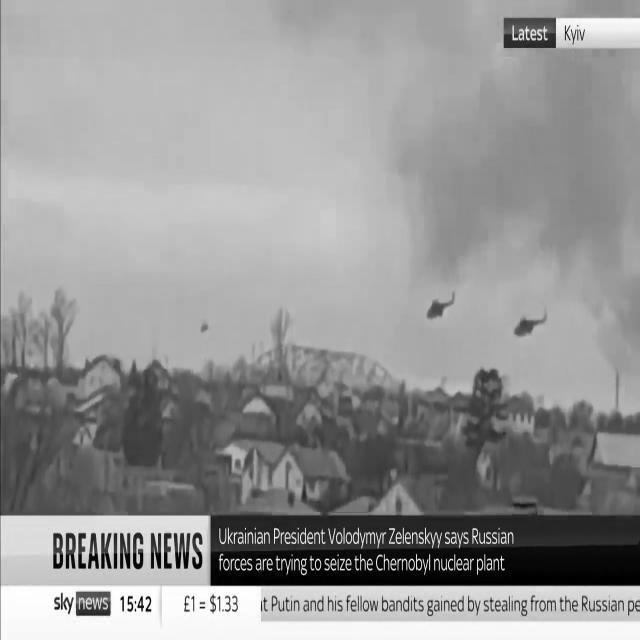helikopter: (504, 288, 558, 361), (420, 269, 464, 351)
